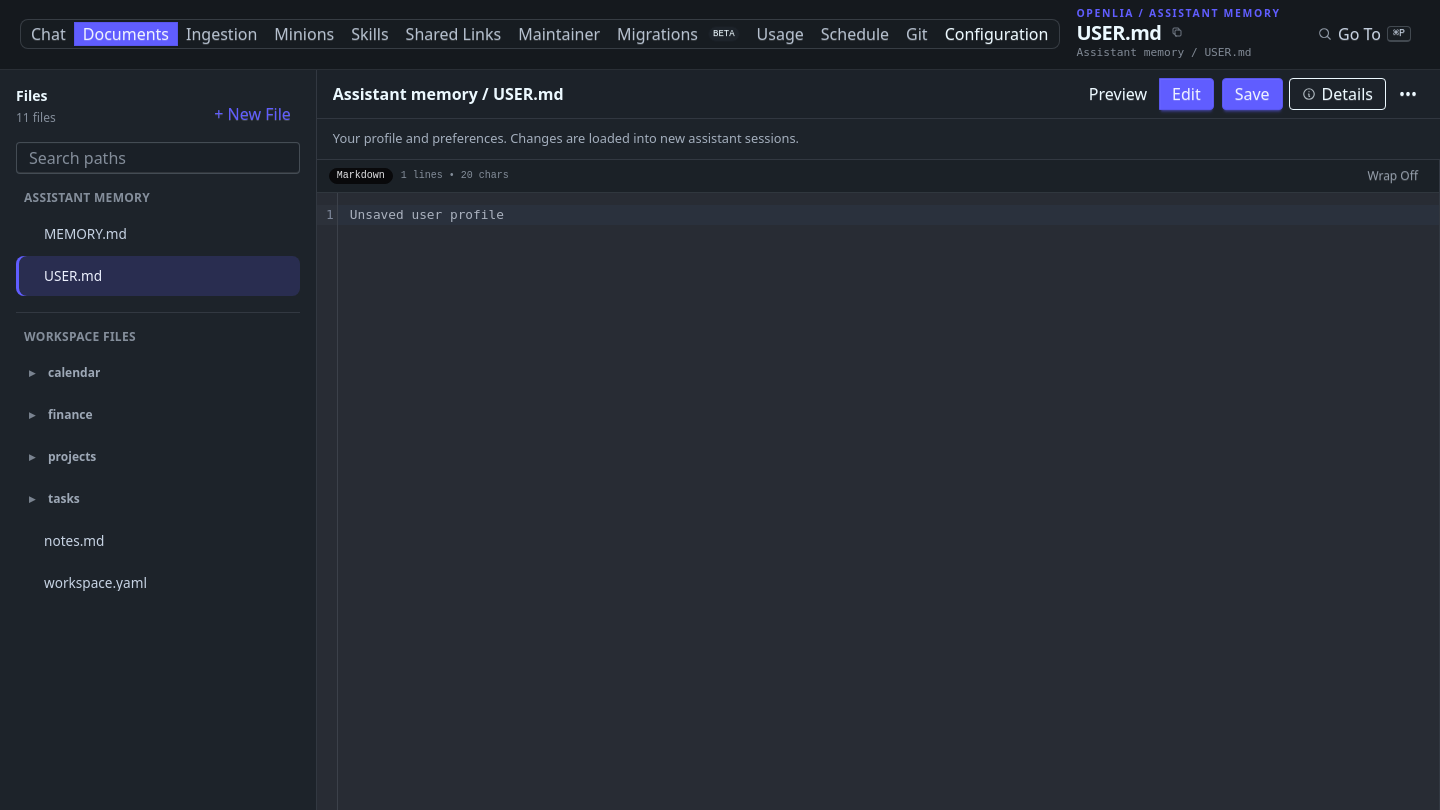
Test: workspace application › opens a memory deep link and protects its draft when navigating away
Click the button "Configuration": (996, 34) [936, 22, 1057, 46]
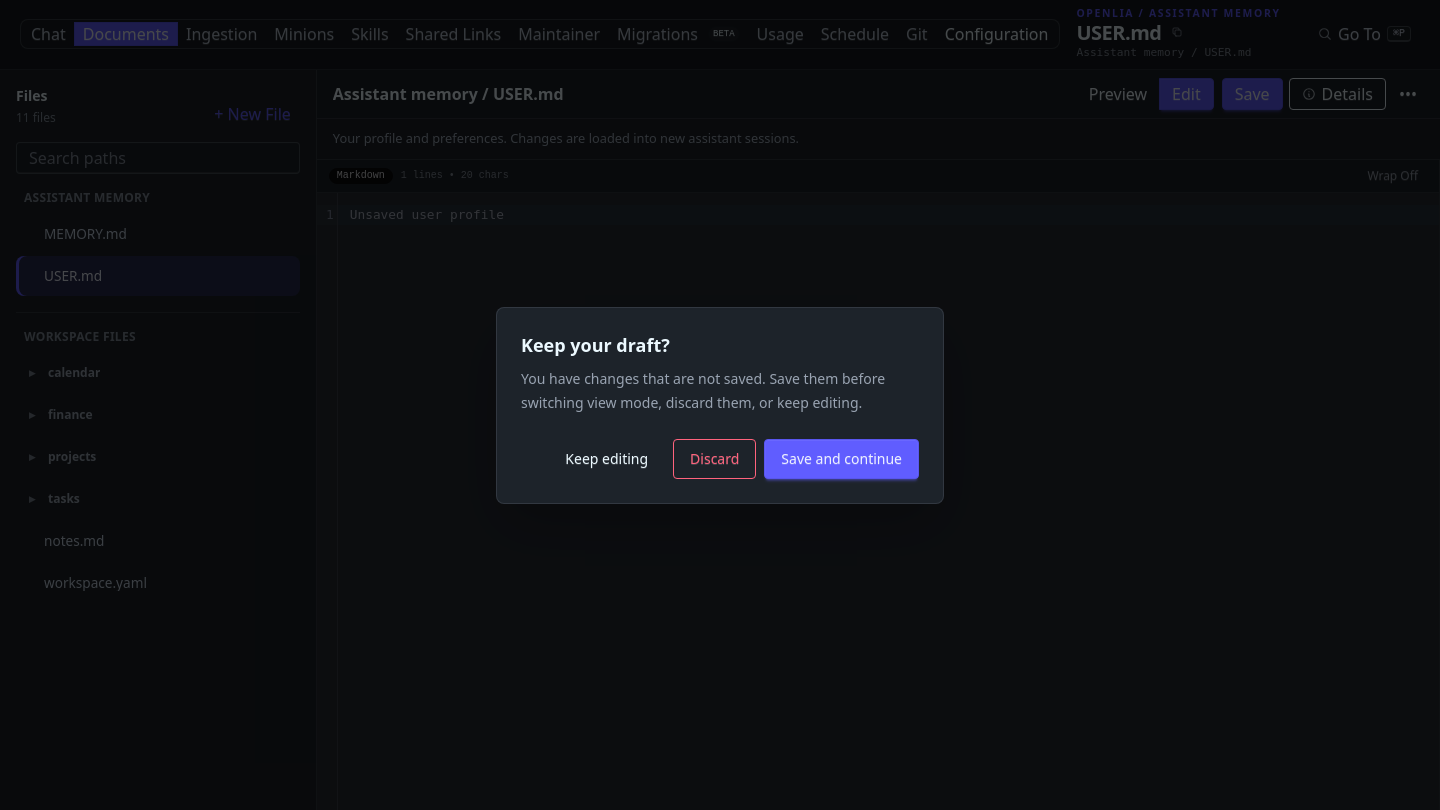
expect the field named "Code editor" reads "Unsaved user profile": met, box [338, 205, 1439, 225]
expect the dialog is shown: met, box [496, 306, 944, 504]
